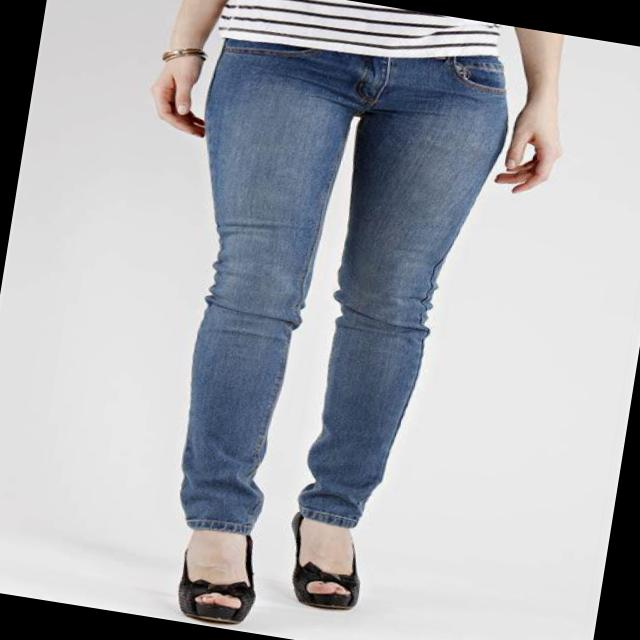pants: (138, 9, 518, 566)
